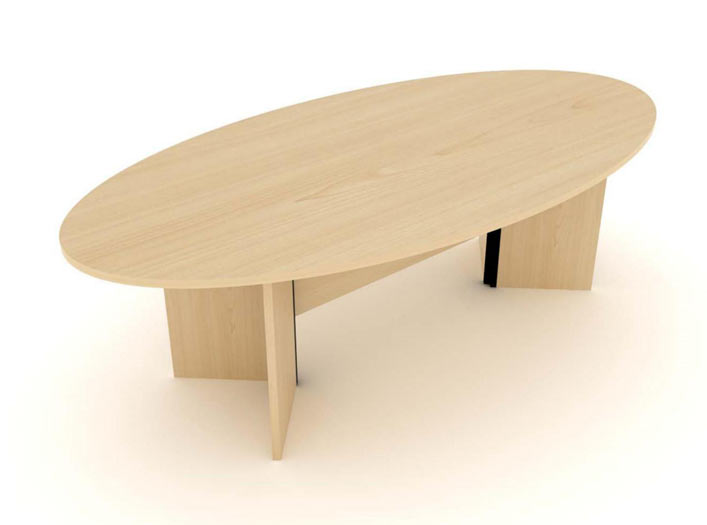conference_table: (56, 66, 656, 461)
